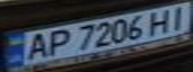0: (109, 16, 133, 44)
2: (93, 19, 115, 48)
6: (124, 12, 151, 41)
7: (72, 22, 96, 52)
A: (18, 30, 54, 62)
H: (145, 7, 178, 35)
I: (163, 3, 193, 30)
P: (42, 27, 75, 57)
